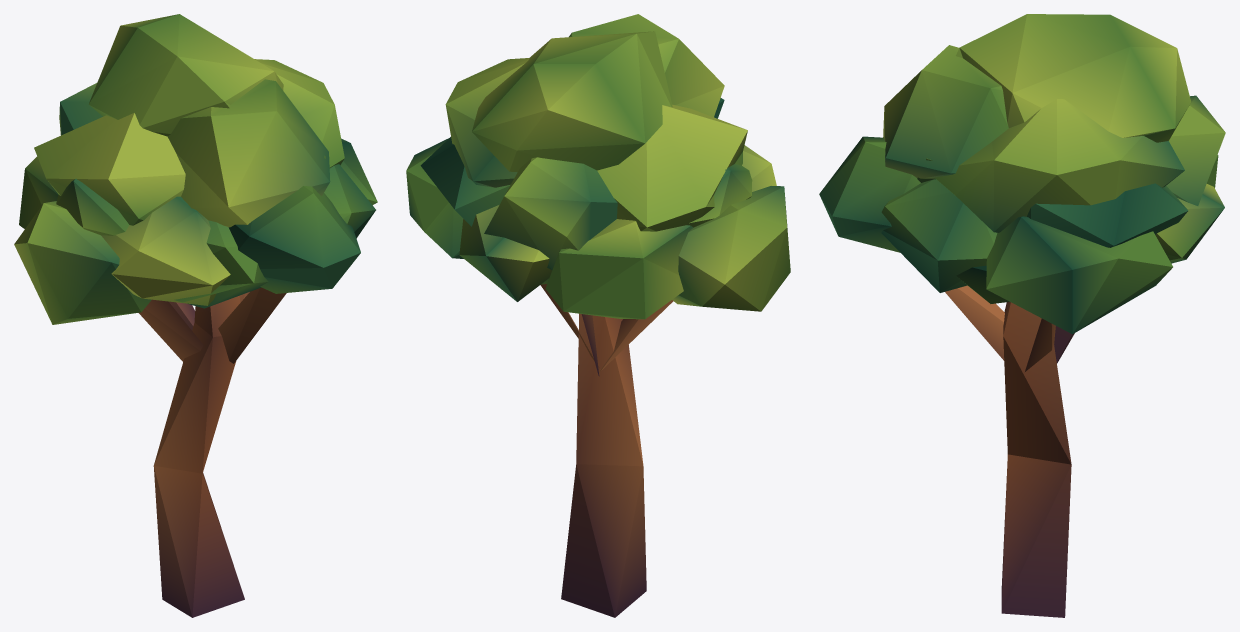
The model's file is grove_tree-lod1.glb.
The picture shows the model from 3 angles, left to right: view 1: azimuth 30°, elevation 25°; view 2: azimuth 150°, elevation 25°; view 3: azimuth 270°, elevation 25°; orthographic projection. The views are drawn at different scales.
Parts seen in each view (by area): view 1: grove_tree; view 2: grove_tree; view 3: grove_tree.
Boxes of the visible parts, x1,y1,x2,y2 form: grove_tree: (14,14,377,617); grove_tree: (406,14,790,617); grove_tree: (819,14,1225,617).
Bounding box in the file's own units: 7.06 × 10.81 × 6.85.
